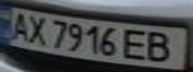1: (81, 22, 103, 55)
6: (100, 25, 124, 57)
7: (45, 17, 69, 50)
9: (63, 20, 84, 53)
A: (3, 9, 33, 42)
B: (142, 29, 181, 64)
E: (121, 27, 154, 62)
X: (24, 12, 51, 46)
